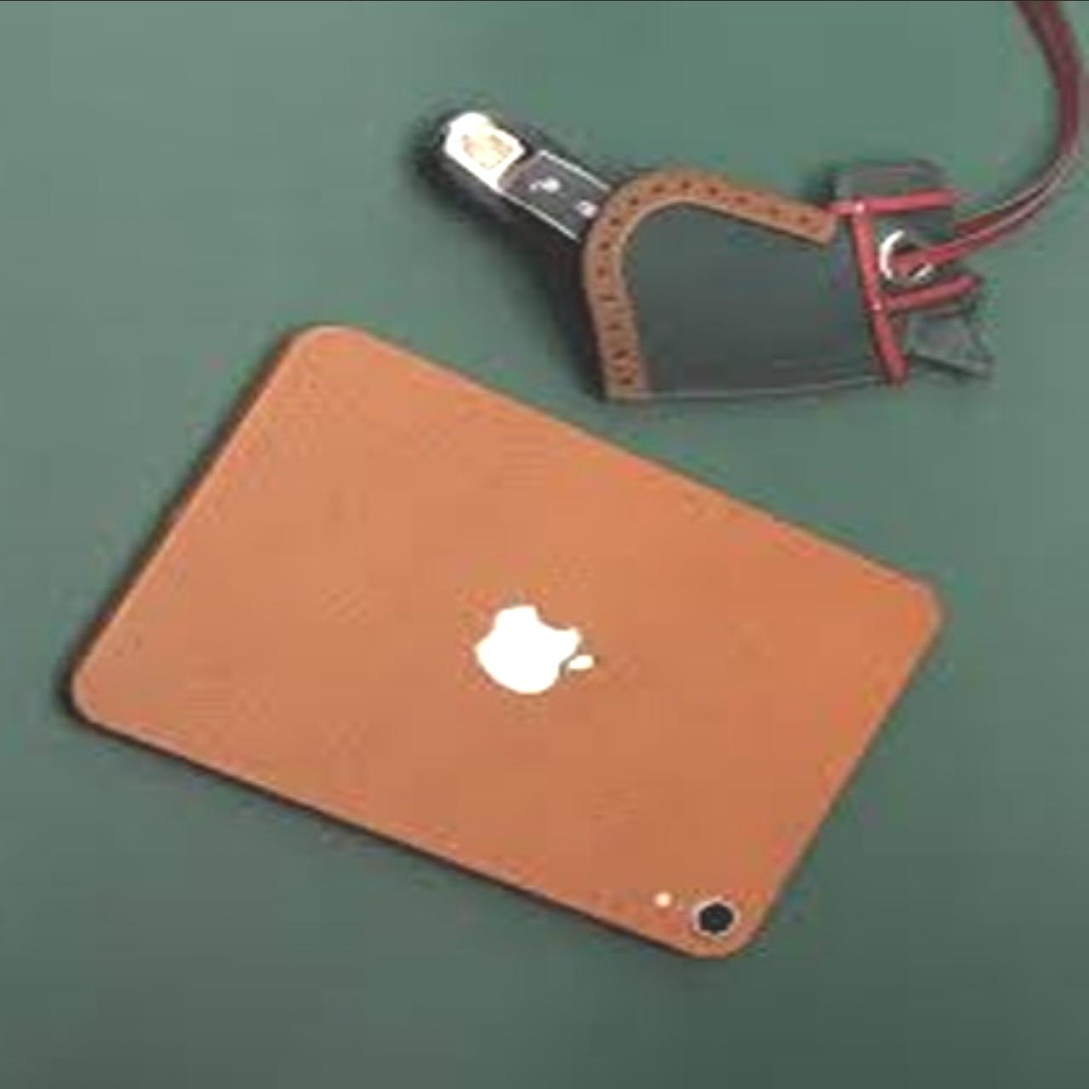Tablet_PC: (50, 299, 950, 976)
